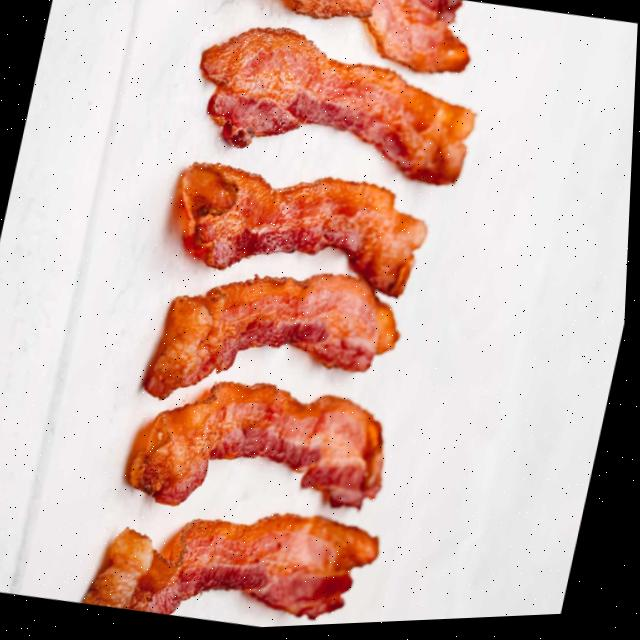Bacon: (200, 30, 475, 189), (181, 164, 428, 301), (131, 384, 387, 512), (147, 277, 401, 401), (89, 517, 383, 622), (263, 0, 469, 77)
